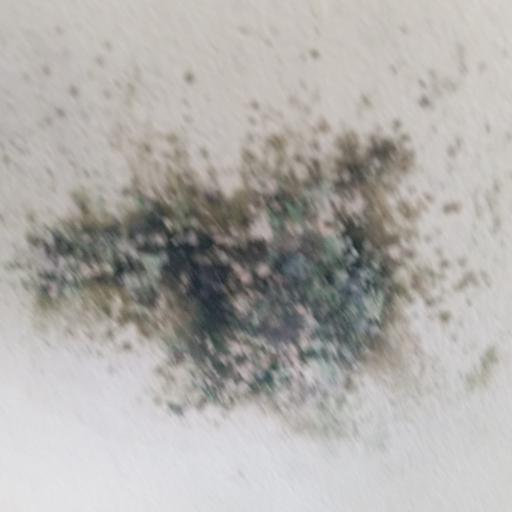algae: (3, 83, 512, 455)
